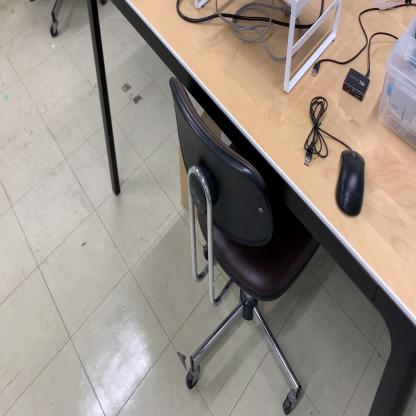chair: (167, 73, 321, 416)
